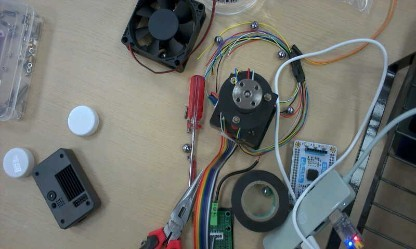ironball: (261, 186, 272, 196), (213, 35, 222, 44), (277, 49, 286, 58), (285, 106, 294, 114), (182, 144, 190, 152), (250, 20, 257, 29), (160, 52, 166, 58)
